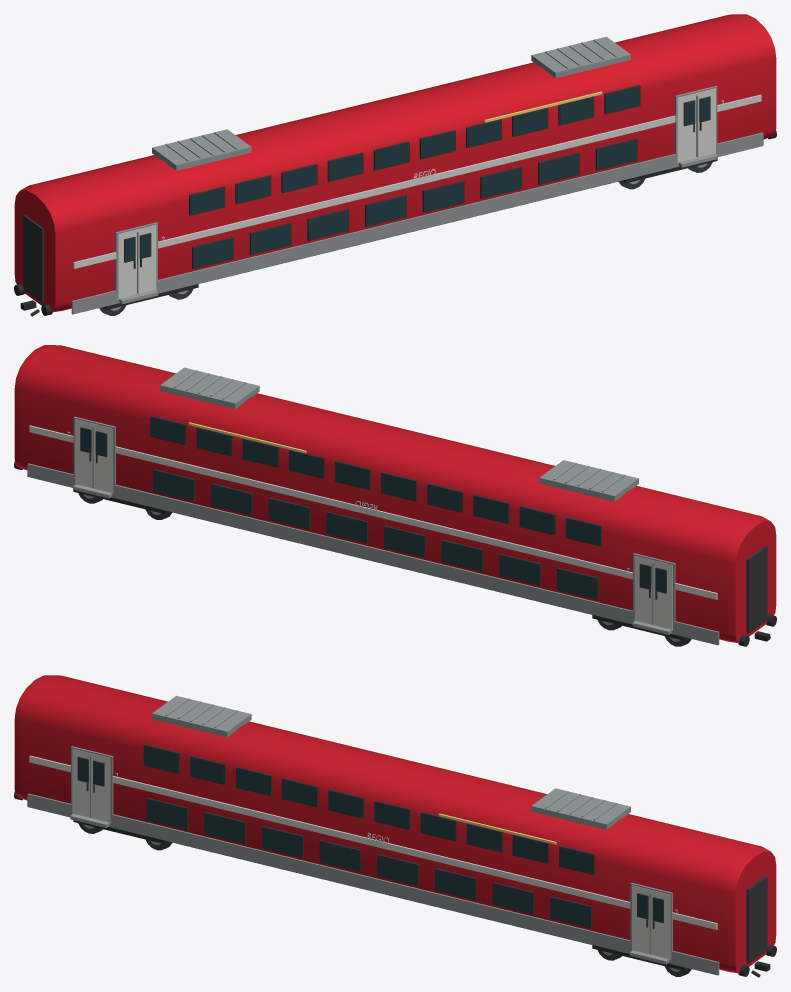
Rendered from db-regional-express-mixed-class.glb.
3 renders of one model, top to bottom at view 1: azimuth 30°, elevation 25°; view 2: azimuth 150°, elevation 25°; view 3: azimuth 330°, elevation 25°, orthographic.
Parts seen in each view (by area): view 1: mixed_class_double_deck_body, mixed_class_lower_skirt_-1, mixed_class_white_belt_-1, mixed_class_roof_hvac_0, mixed_class_roof_hvac_1, mixed_class_door_-1_1, mixed_class_door_-1_0, mixed_class_gangway_-1, mixed_class_lower_window_-1_4, mixed_class_lower_window_-1_1, mixed_class_lower_window_-1_0, mixed_class_lower_window_-1_3 (+14 smaller); view 2: mixed_class_double_deck_body, mixed_class_lower_skirt_1, mixed_class_white_belt_1, mixed_class_roof_hvac_1, mixed_class_roof_hvac_0, mixed_class_door_1_1, mixed_class_door_1_0, mixed_class_gangway_-1, mixed_class_lower_window_1_0, mixed_class_lower_window_1_3, mixed_class_lower_window_1_1, mixed_class_lower_window_1_4 (+16 smaller); view 3: mixed_class_double_deck_body, mixed_class_lower_skirt_-1, mixed_class_white_belt_-1, mixed_class_roof_hvac_1, mixed_class_roof_hvac_0, mixed_class_door_-1_1, mixed_class_door_-1_0, mixed_class_gangway_1, mixed_class_lower_window_-1_2, mixed_class_lower_window_-1_1, mixed_class_lower_window_-1_4, mixed_class_lower_window_-1_7 (+14 smaller).
Boxes of the visible parts, x1,y1,x2,y2 form: mixed_class_double_deck_body: (14, 14, 776, 312); mixed_class_lower_skirt_-1: (71, 132, 763, 314); mixed_class_white_belt_-1: (73, 94, 761, 268); mixed_class_roof_hvac_0: (152, 129, 251, 170); mixed_class_roof_hvac_1: (531, 36, 630, 78); mixed_class_door_-1_1: (677, 88, 715, 163); mixed_class_door_-1_0: (118, 225, 156, 299); mixed_class_gangway_-1: (23, 215, 44, 302); mixed_class_lower_window_-1_4: (425, 183, 463, 211); mixed_class_lower_window_-1_1: (252, 225, 290, 253); mixed_class_lower_window_-1_0: (194, 239, 232, 267); mixed_class_lower_window_-1_3: (367, 197, 405, 225); mixed_class_double_deck_body: (14, 345, 776, 643); mixed_class_lower_skirt_1: (27, 463, 719, 645); mixed_class_white_belt_1: (29, 425, 717, 599); mixed_class_roof_hvac_1: (160, 367, 259, 409); mixed_class_roof_hvac_0: (539, 460, 638, 501); mixed_class_door_1_1: (75, 419, 113, 494); mixed_class_door_1_0: (634, 556, 672, 630); mixed_class_gangway_-1: (746, 546, 767, 633); mixed_class_lower_window_1_0: (558, 570, 596, 598); mixed_class_lower_window_1_3: (385, 528, 423, 555); mixed_class_lower_window_1_1: (500, 556, 538, 584); mixed_class_lower_window_1_4: (327, 514, 365, 541); mixed_class_double_deck_body: (14, 675, 776, 973); mixed_class_lower_skirt_-1: (27, 793, 719, 975); mixed_class_white_belt_-1: (29, 755, 717, 929); mixed_class_roof_hvac_1: (531, 788, 630, 829); mixed_class_roof_hvac_0: (152, 695, 251, 737); mixed_class_door_-1_1: (632, 885, 670, 960); mixed_class_door_-1_0: (72, 748, 110, 823); mixed_class_gangway_1: (746, 876, 767, 963); mixed_class_lower_window_-1_2: (263, 828, 301, 856); mixed_class_lower_window_-1_1: (205, 814, 243, 842); mixed_class_lower_window_-1_4: (378, 857, 416, 884); mixed_class_lower_window_-1_7: (551, 899, 589, 926).
Size of the model in its own units: 27.74 by 4.86 by 3.35.
